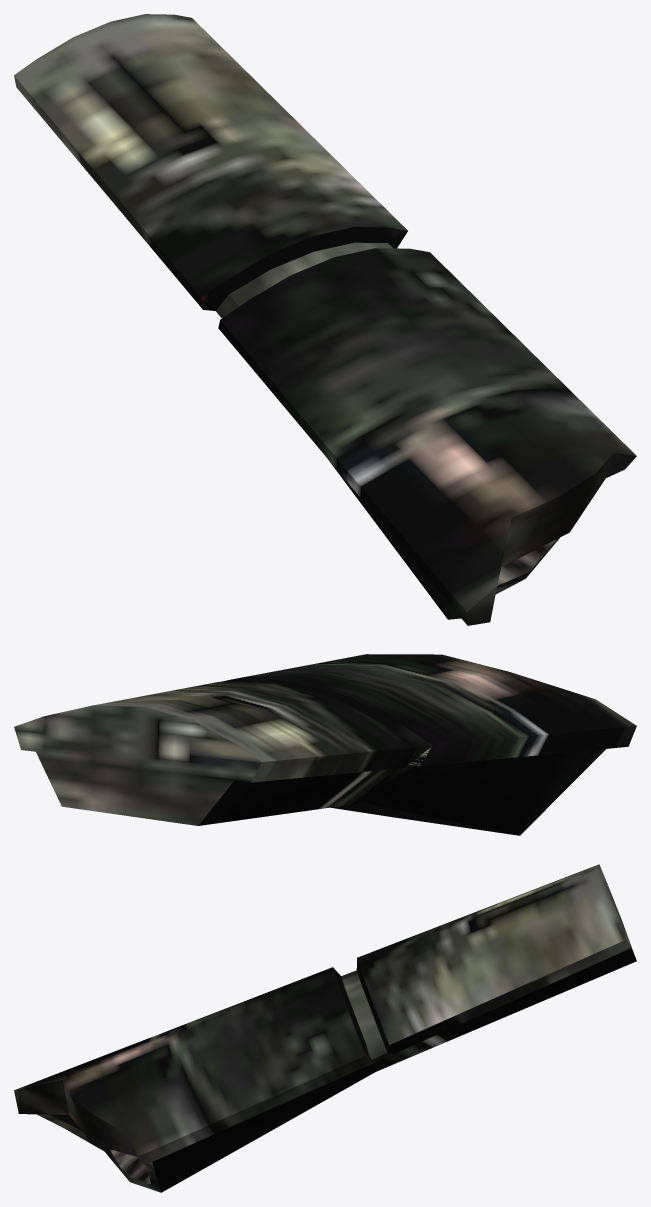
File: droid_fighter_debris_s04_l0.fbx
3 views of the same model, one above another, from view 1: azimuth 30°, elevation 25°; view 2: azimuth 150°, elevation 25°; view 3: azimuth 270°, elevation 25° (orthographic). The views are drawn at different scales.
Parts seen in each view (by area): view 1: mesh_node; view 2: mesh_node; view 3: mesh_node.
Part boxes in pixels (x1,y1,x2,y2): mesh_node: (14,14,636,625); mesh_node: (14,654,636,835); mesh_node: (14,864,636,1192).
Bounding box in the file's own units: 0.591 × 0.6347 × 1.34.
1 material, 1 textured.
